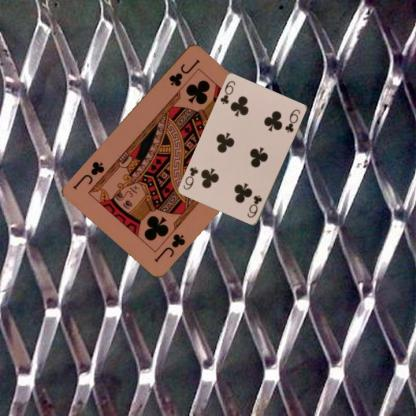6c: (218, 78, 237, 106), (245, 192, 264, 219)
Jc: (152, 230, 186, 264), (166, 55, 201, 88)
